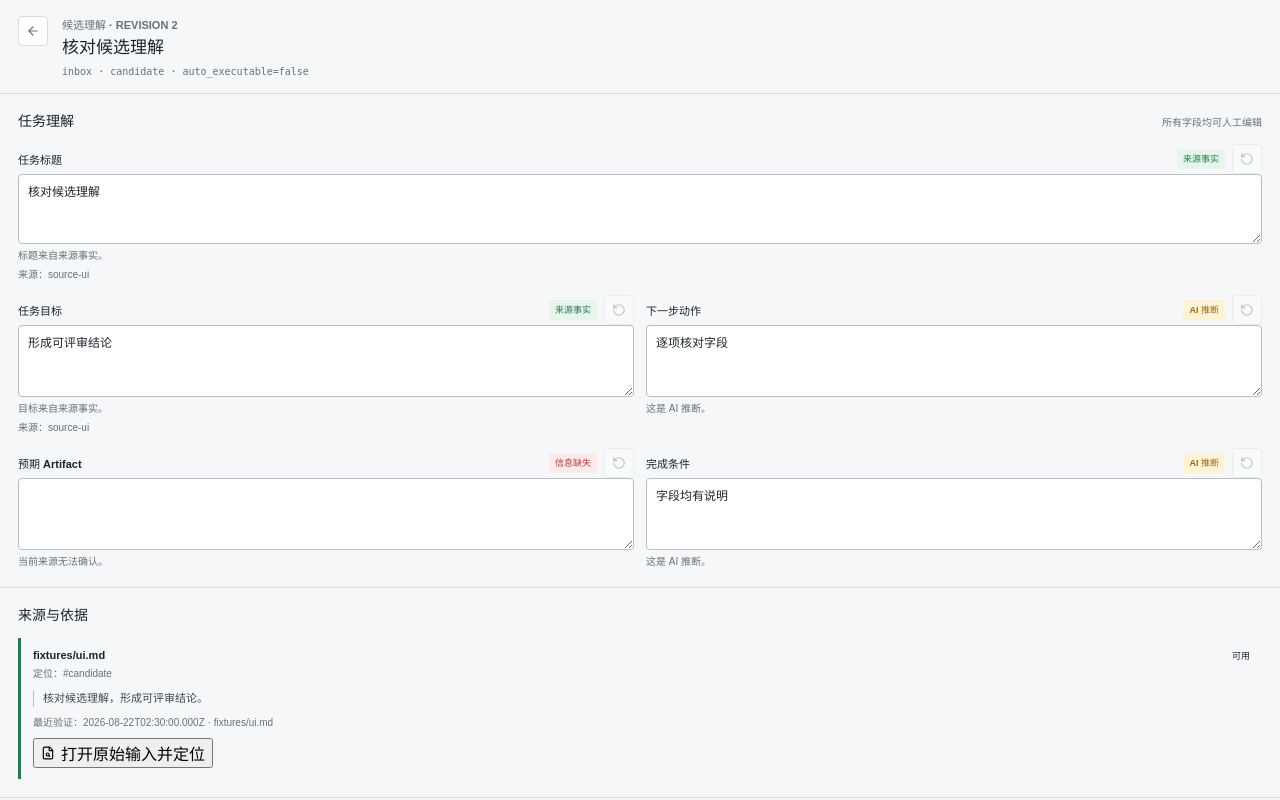
Test: CandidateInspector › locates an available source through the bounded source action
This screenshot has width=1280, height=800.
What coordinates should you click on to do the following:
click the button "打开原始输入并定位"
I would click on:
 (123, 753)
Its box is x1=33 y1=738 x2=213 y2=768.
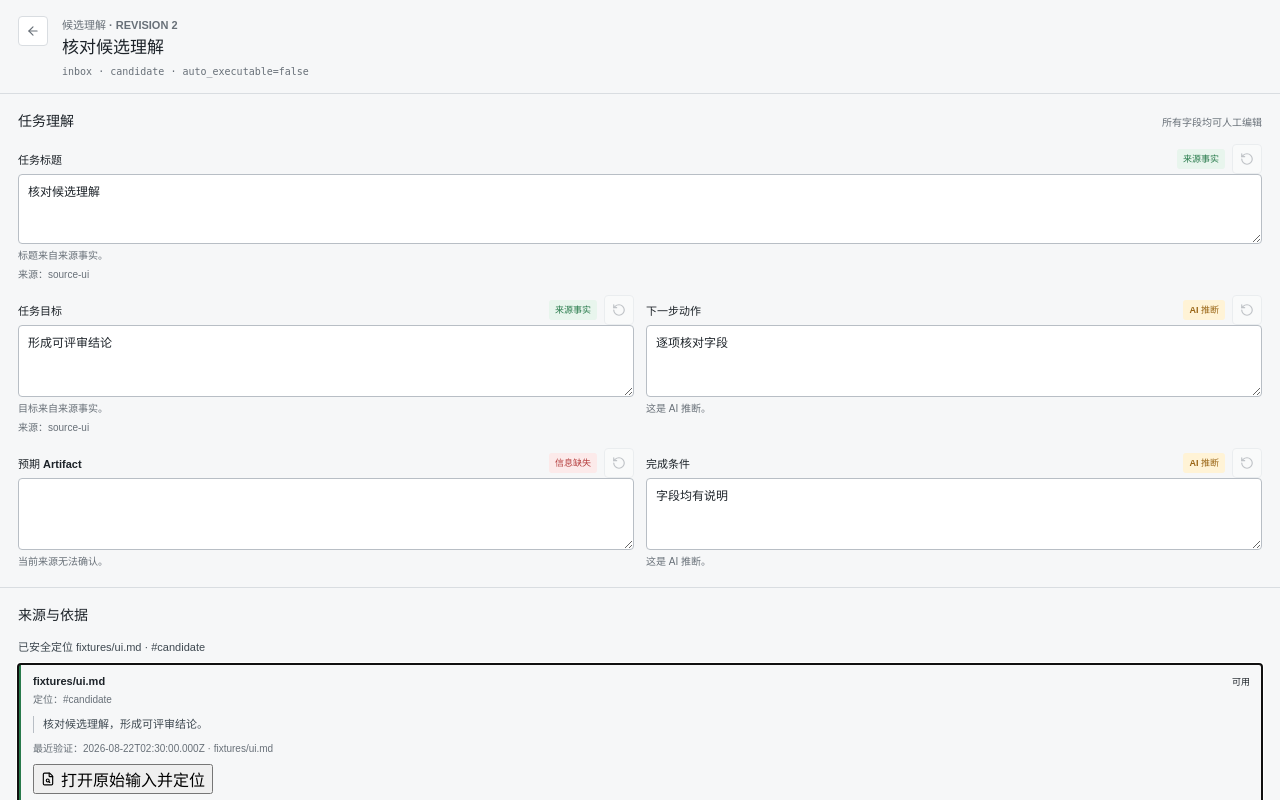
expect the text "已安全定位 fixtures/ui.md · #candidate" is shown: met, box x1=18 y1=641 x2=205 y2=653
